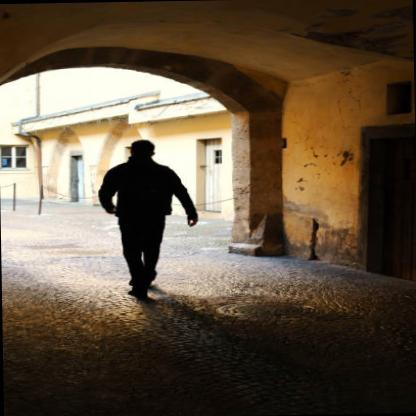manholes: (208, 286, 341, 330)
